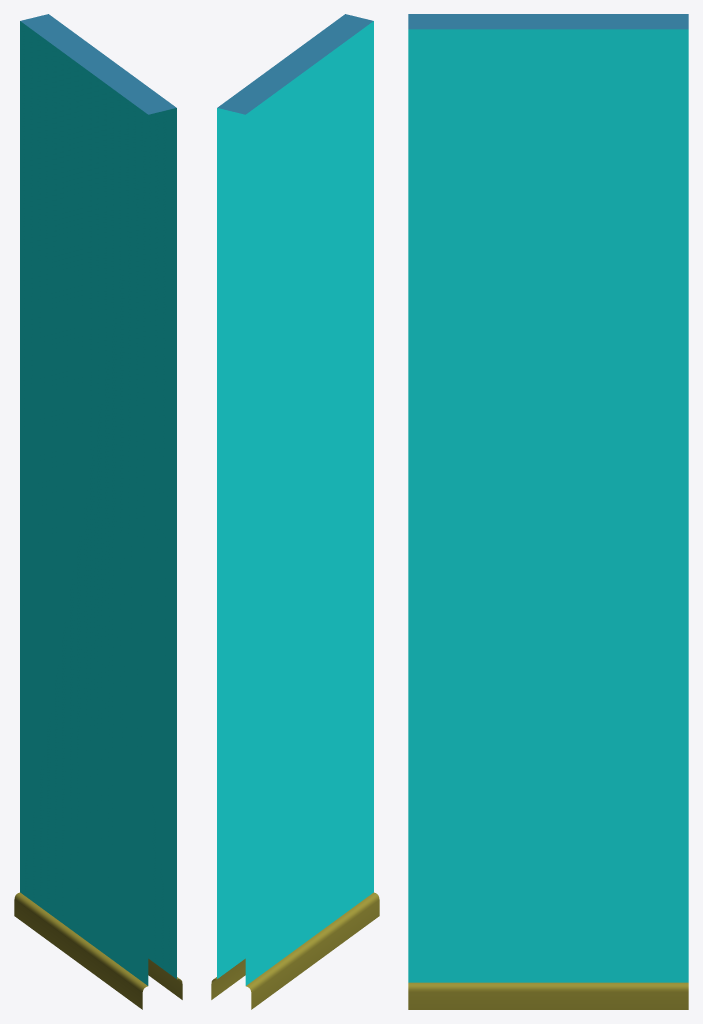
File: Wall (Single).fbx
3 renders of one model, left to right at view 1: azimuth 30°, elevation 25°; view 2: azimuth 150°, elevation 25°; view 3: azimuth 270°, elevation 25°, orthographic. The views are drawn at different scales.
Parts seen in each view (by area): view 1: Box001; view 2: Box001; view 3: Box001.
Boxes of the visible parts, bbox=[...] form: Box001: bbox=[14, 14, 182, 1009]; Box001: bbox=[211, 14, 379, 1009]; Box001: bbox=[408, 14, 688, 1009].
Size of the model in its own units: 27.56 by 591 by 154.
